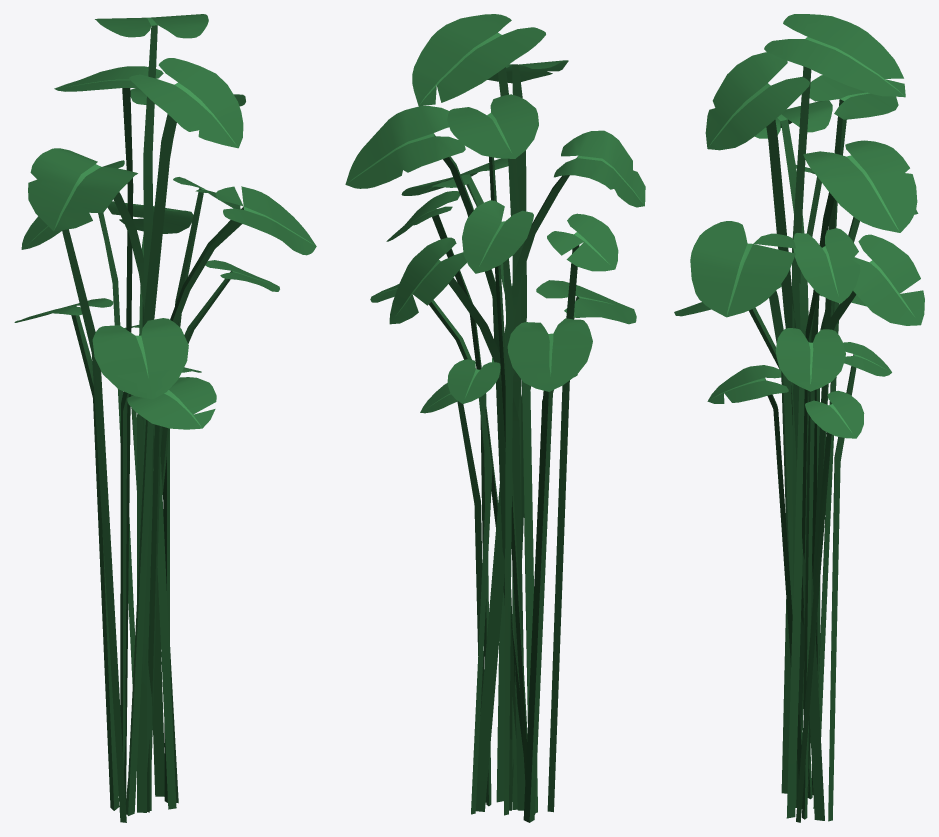
The model's file is plant_monstera_C_pot.fbx.
3 renders of one model, left to right at view 1: azimuth 30°, elevation 25°; view 2: azimuth 150°, elevation 25°; view 3: azimuth 270°, elevation 25°, orthographic.
Parts seen in each view (by area): view 1: plant_monstera_C_leaf_29, plant_monstera_C_leaf_25, plant_monstera_C_leaf_33, plant_monstera_C_leaf_27, plant_monstera_C_leaf_31, plant_monstera_C_leaf_36, plant_monstera_C_leaf_24, plant_monstera_C_leaf_37, plant_monstera_C_leaf_32, plant_monstera_C_leaf_28, plant_monstera_C_leaf_26, plant_monstera_C_leaf_30 (+2 smaller); view 2: plant_monstera_C_leaf_32, plant_monstera_C_leaf_31, plant_monstera_C_leaf_01, plant_monstera_C_leaf_30, plant_monstera_C_leaf_37, plant_monstera_C_leaf_28, plant_monstera_C_leaf_36, plant_monstera_C_leaf_25, plant_monstera_C_leaf_29, plant_monstera_C_leaf_34, plant_monstera_C_leaf_27, plant_monstera_C_leaf_35 (+4 smaller); view 3: plant_monstera_C_leaf_29, plant_monstera_C_leaf_27, plant_monstera_C_leaf_31, plant_monstera_C_leaf_01, plant_monstera_C_leaf_25, plant_monstera_C_leaf_26, plant_monstera_C_leaf_28, plant_monstera_C_leaf_35, plant_monstera_C_leaf_38, plant_monstera_C_leaf_37, plant_monstera_C_leaf_24, plant_monstera_C_leaf_34 (+4 smaller).
Boxes of the visible parts, bbox=[...] form: plant_monstera_C_leaf_29: bbox=[129, 58, 243, 796]; plant_monstera_C_leaf_25: bbox=[28, 148, 176, 809]; plant_monstera_C_leaf_33: bbox=[92, 318, 188, 769]; plant_monstera_C_leaf_27: bbox=[127, 186, 316, 815]; plant_monstera_C_leaf_31: bbox=[95, 14, 208, 810]; plant_monstera_C_leaf_36: bbox=[21, 216, 126, 822]; plant_monstera_C_leaf_24: bbox=[127, 377, 216, 759]; plant_monstera_C_leaf_37: bbox=[54, 66, 163, 801]; plant_monstera_C_leaf_32: bbox=[14, 298, 119, 810]; plant_monstera_C_leaf_28: bbox=[107, 201, 193, 812]; plant_monstera_C_leaf_26: bbox=[162, 260, 279, 802]; plant_monstera_C_leaf_30: bbox=[98, 160, 135, 684]; plant_monstera_C_leaf_32: bbox=[507, 318, 592, 822]; plant_monstera_C_leaf_31: bbox=[412, 14, 545, 809]; plant_monstera_C_leaf_01: bbox=[345, 106, 516, 739]; plant_monstera_C_leaf_30: bbox=[462, 200, 533, 815]; plant_monstera_C_leaf_37: bbox=[447, 94, 538, 779]; plant_monstera_C_leaf_28: bbox=[389, 237, 525, 810]; plant_monstera_C_leaf_36: bbox=[547, 213, 618, 812]; plant_monstera_C_leaf_25: bbox=[496, 130, 645, 802]; plant_monstera_C_leaf_29: bbox=[475, 60, 568, 811]; plant_monstera_C_leaf_34: bbox=[447, 359, 500, 814]; plant_monstera_C_leaf_27: bbox=[401, 158, 537, 812]; plant_monstera_C_leaf_35: bbox=[386, 191, 535, 814]; plant_monstera_C_leaf_29: bbox=[705, 52, 824, 820]; plant_monstera_C_leaf_27: bbox=[690, 221, 795, 674]; plant_monstera_C_leaf_31: bbox=[764, 14, 905, 807]; plant_monstera_C_leaf_01: bbox=[796, 140, 917, 807]; plant_monstera_C_leaf_25: bbox=[755, 100, 832, 818]; plant_monstera_C_leaf_26: bbox=[775, 328, 845, 819]; plant_monstera_C_leaf_28: bbox=[802, 234, 924, 720]; plant_monstera_C_leaf_35: bbox=[793, 228, 860, 736]; plant_monstera_C_leaf_38: bbox=[796, 390, 864, 822]; plant_monstera_C_leaf_37: bbox=[807, 75, 898, 797]; plant_monstera_C_leaf_24: bbox=[707, 365, 802, 808]; plant_monstera_C_leaf_34: bbox=[828, 342, 891, 821].
Size of the model in its own units: 104 by 306 by 89.34.
